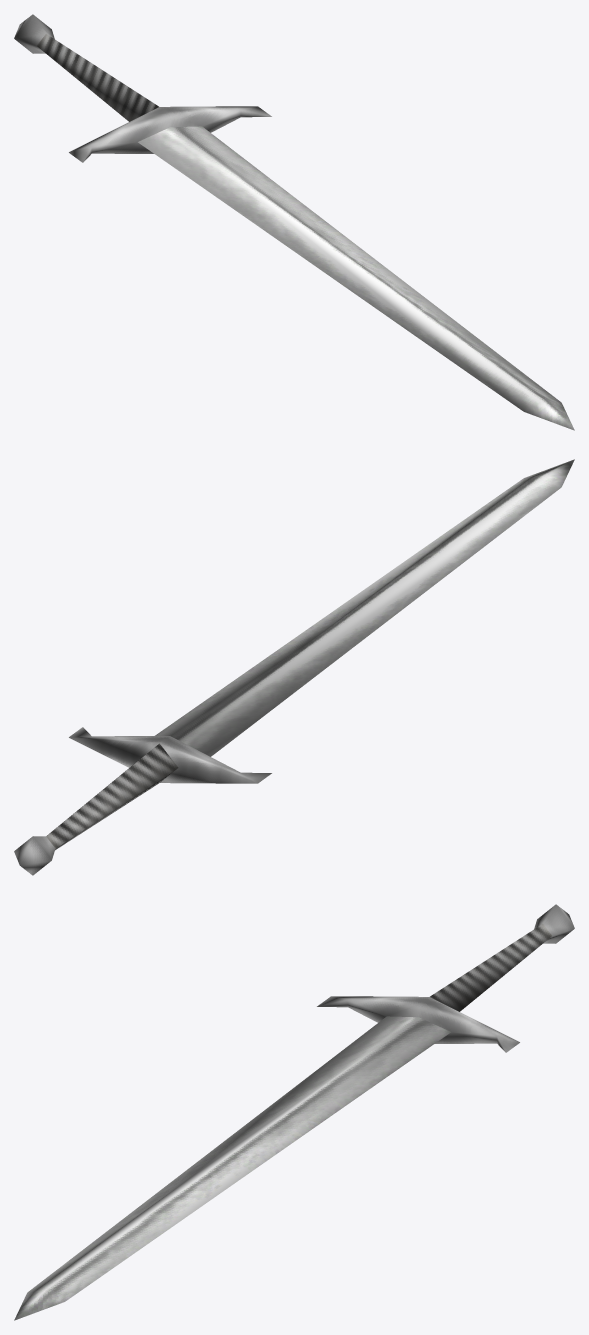
The model's file is one_handed_sword_1.glb.
3 renders of one model, top to bottom at view 1: azimuth 30°, elevation 25°; view 2: azimuth 150°, elevation 25°; view 3: azimuth 330°, elevation 25°, orthographic.
Visible parts, largest first — view 1: one_handed_sword_1; view 2: one_handed_sword_1; view 3: one_handed_sword_1.
Boxes of the visible parts, bbox=[...] form: one_handed_sword_1: bbox=[14, 14, 574, 430]; one_handed_sword_1: bbox=[14, 459, 574, 875]; one_handed_sword_1: bbox=[14, 904, 574, 1320].
Size of the model in its own units: 0.4243 by 0.0849 by 2.15.
Materials: 1 (1 with a texture image).
